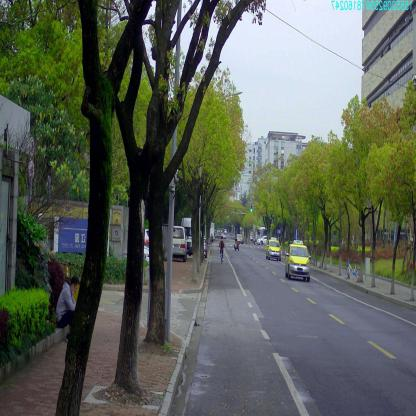traffic-light: (251, 202, 253, 212)
